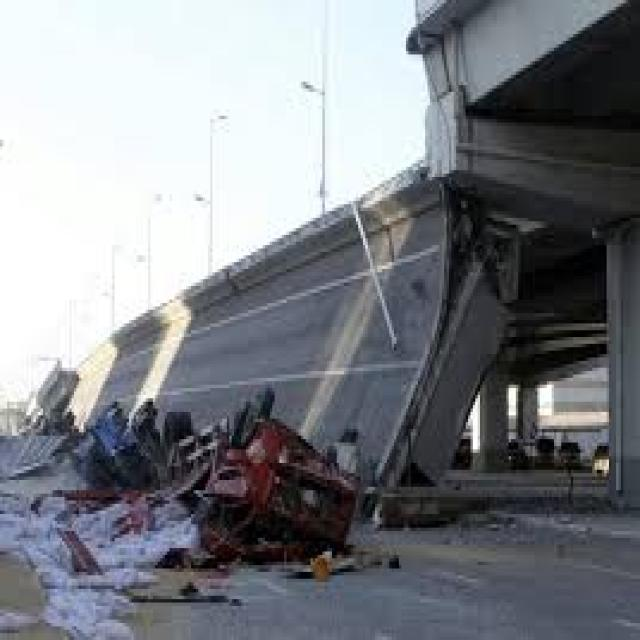bridge collapse: (0, 0, 587, 565)
